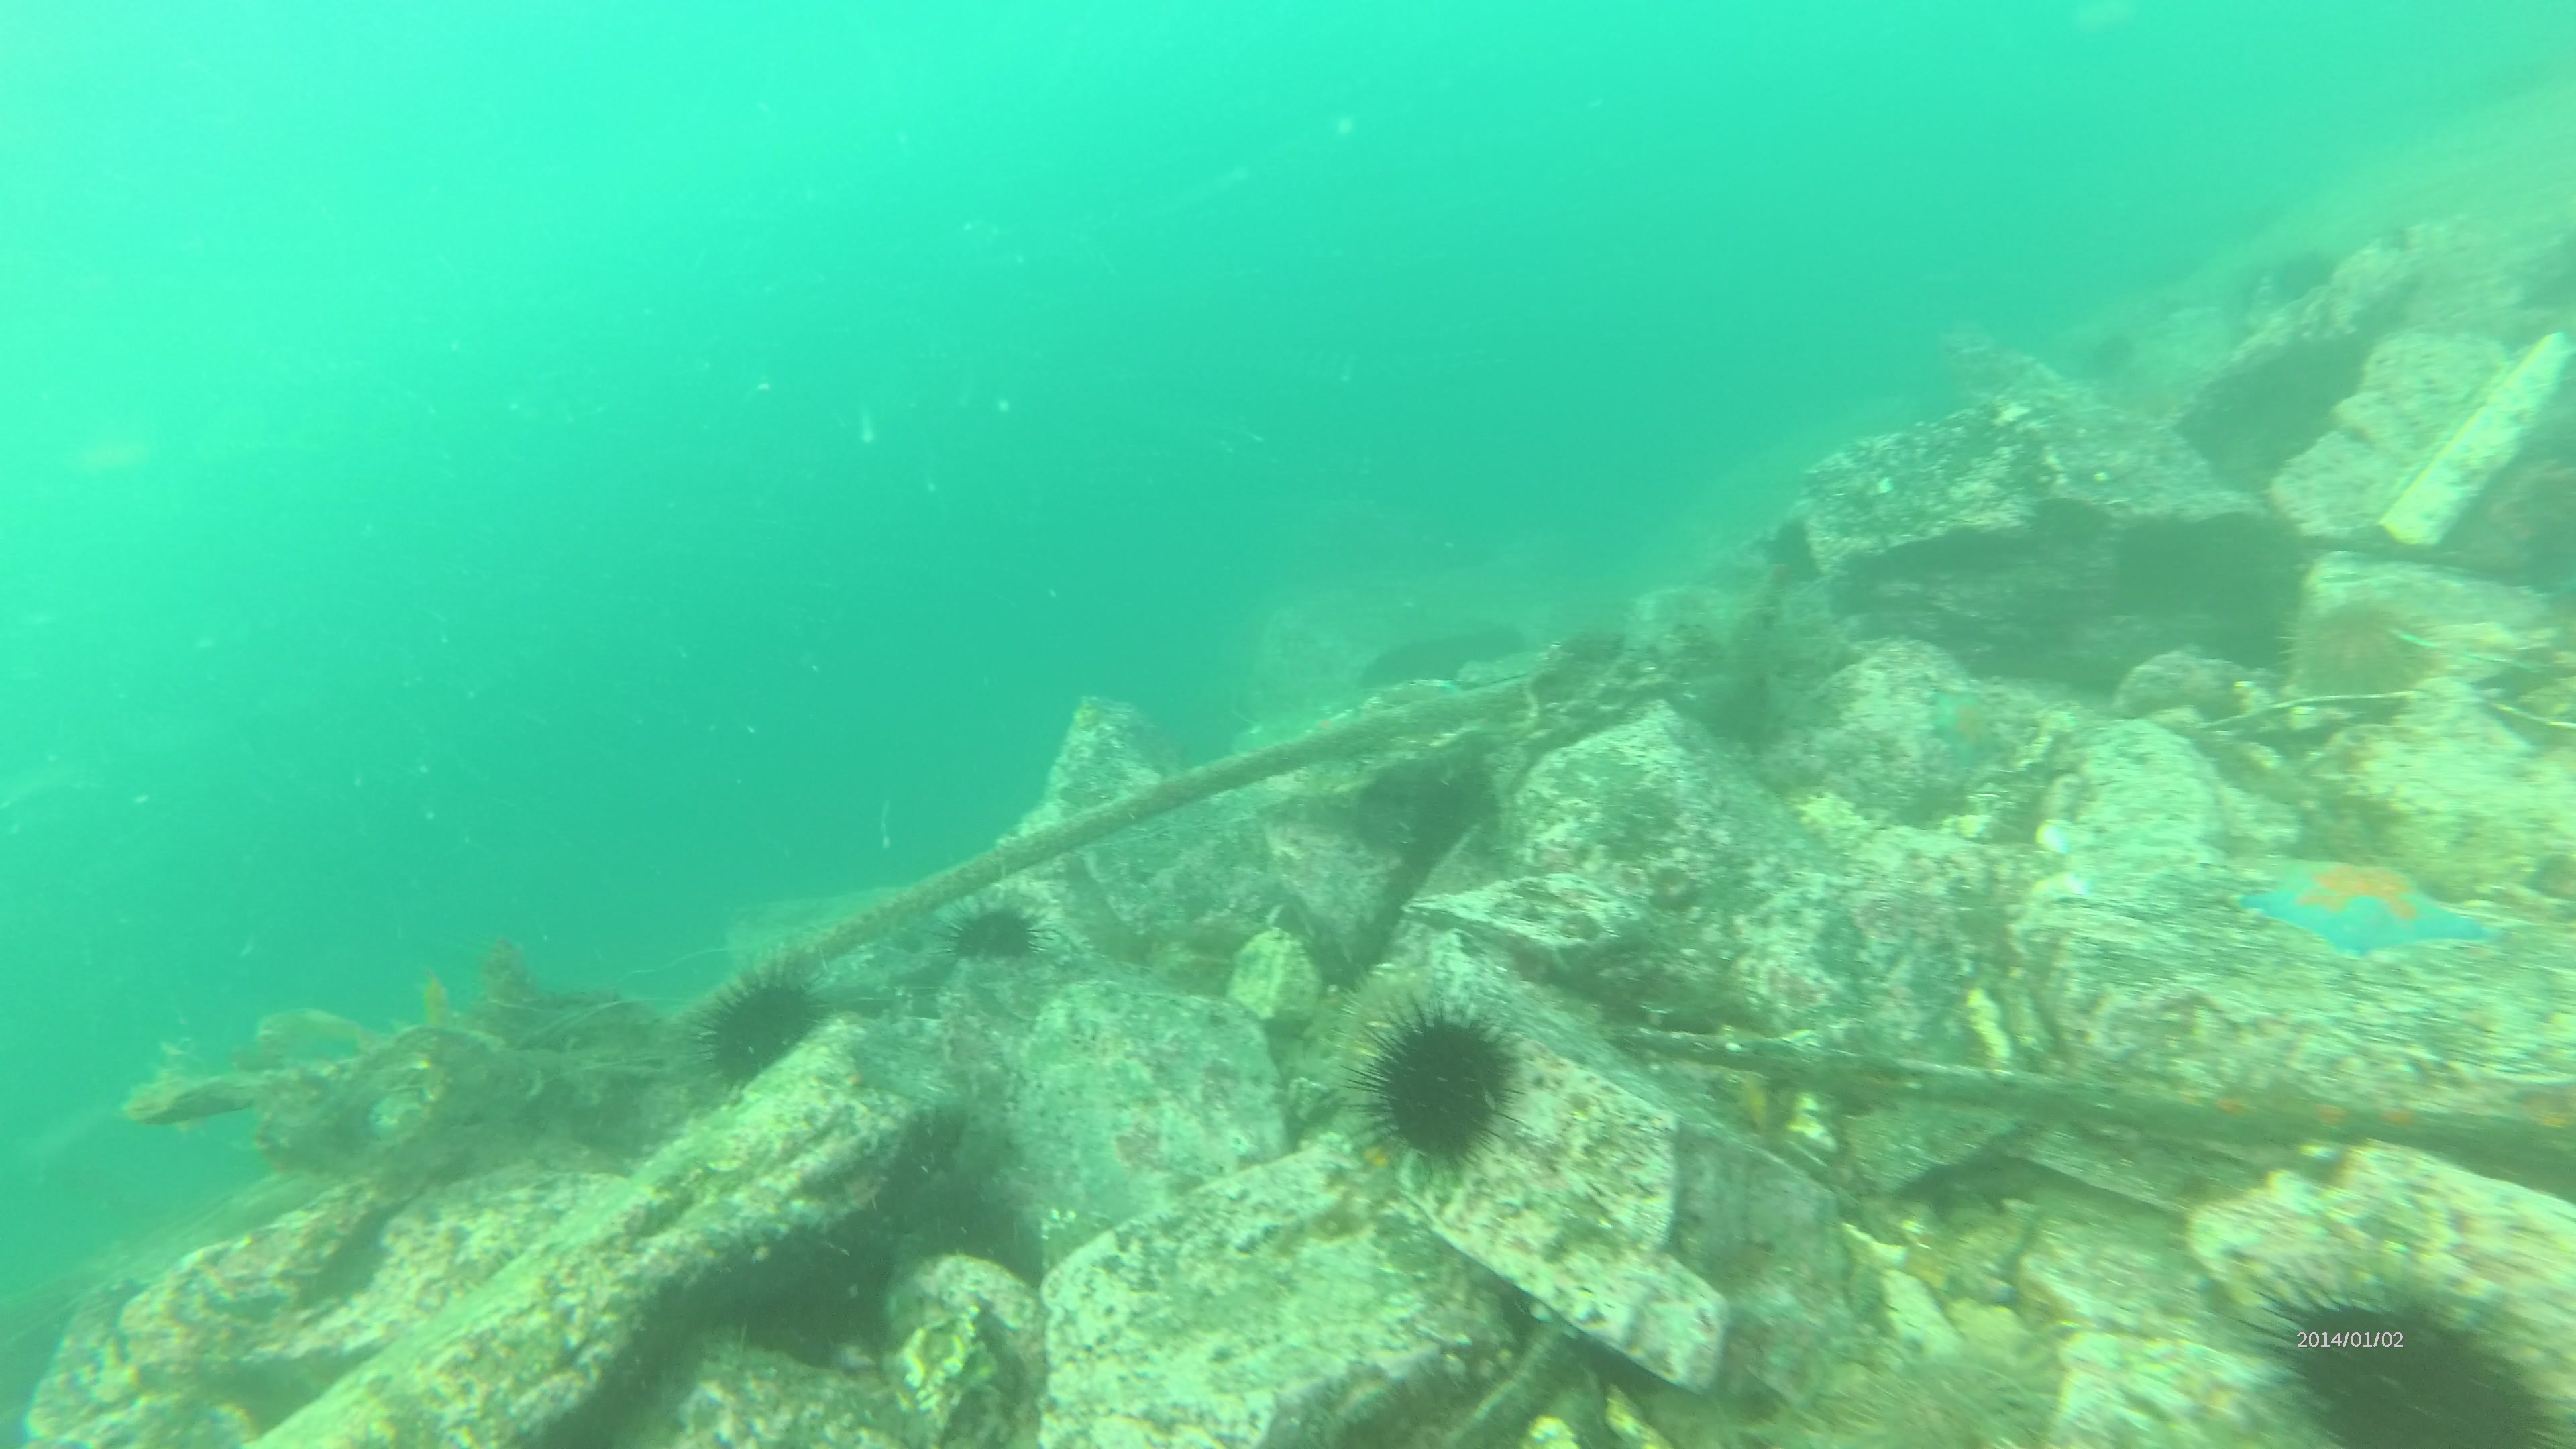echinus: (2240, 1260, 2576, 1449), (1361, 994, 1522, 1177), (2282, 591, 2434, 720), (695, 964, 826, 1090), (943, 901, 1044, 973)
starfish: (2249, 837, 2500, 966), (1920, 678, 2010, 775)
